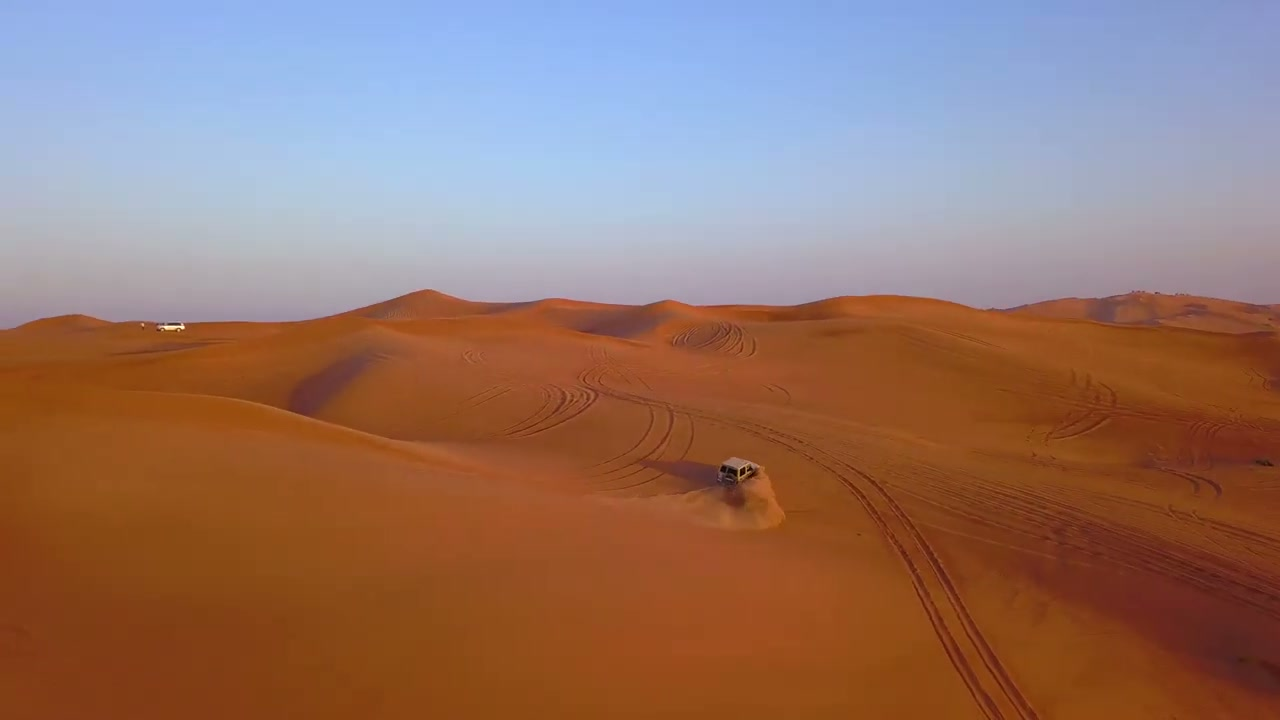vehicle_track: (679, 407, 1037, 719), (898, 464, 1279, 619), (583, 403, 695, 491), (1043, 370, 1117, 444), (501, 385, 598, 438), (671, 320, 757, 357), (438, 385, 511, 419), (1155, 467, 1222, 497), (1187, 417, 1225, 468), (763, 383, 791, 404), (1248, 369, 1275, 390), (461, 348, 485, 365)
